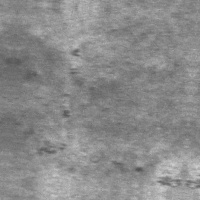rolled-in_scale: (30, 135, 183, 191), (50, 43, 89, 121)
